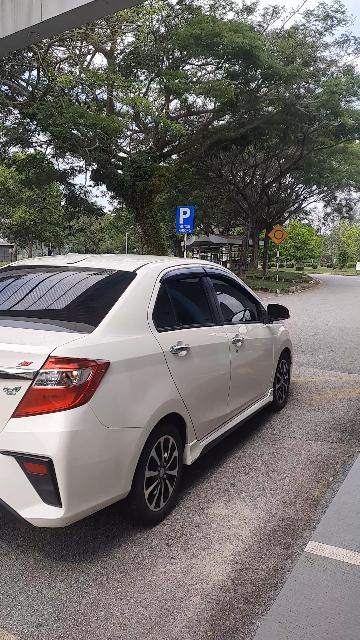car: (1, 253, 299, 538)
